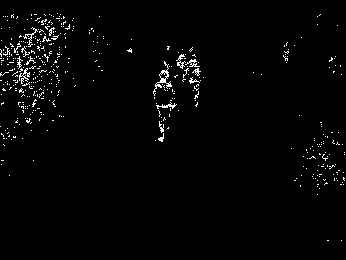person: (150, 69, 178, 142), (182, 52, 202, 109)
